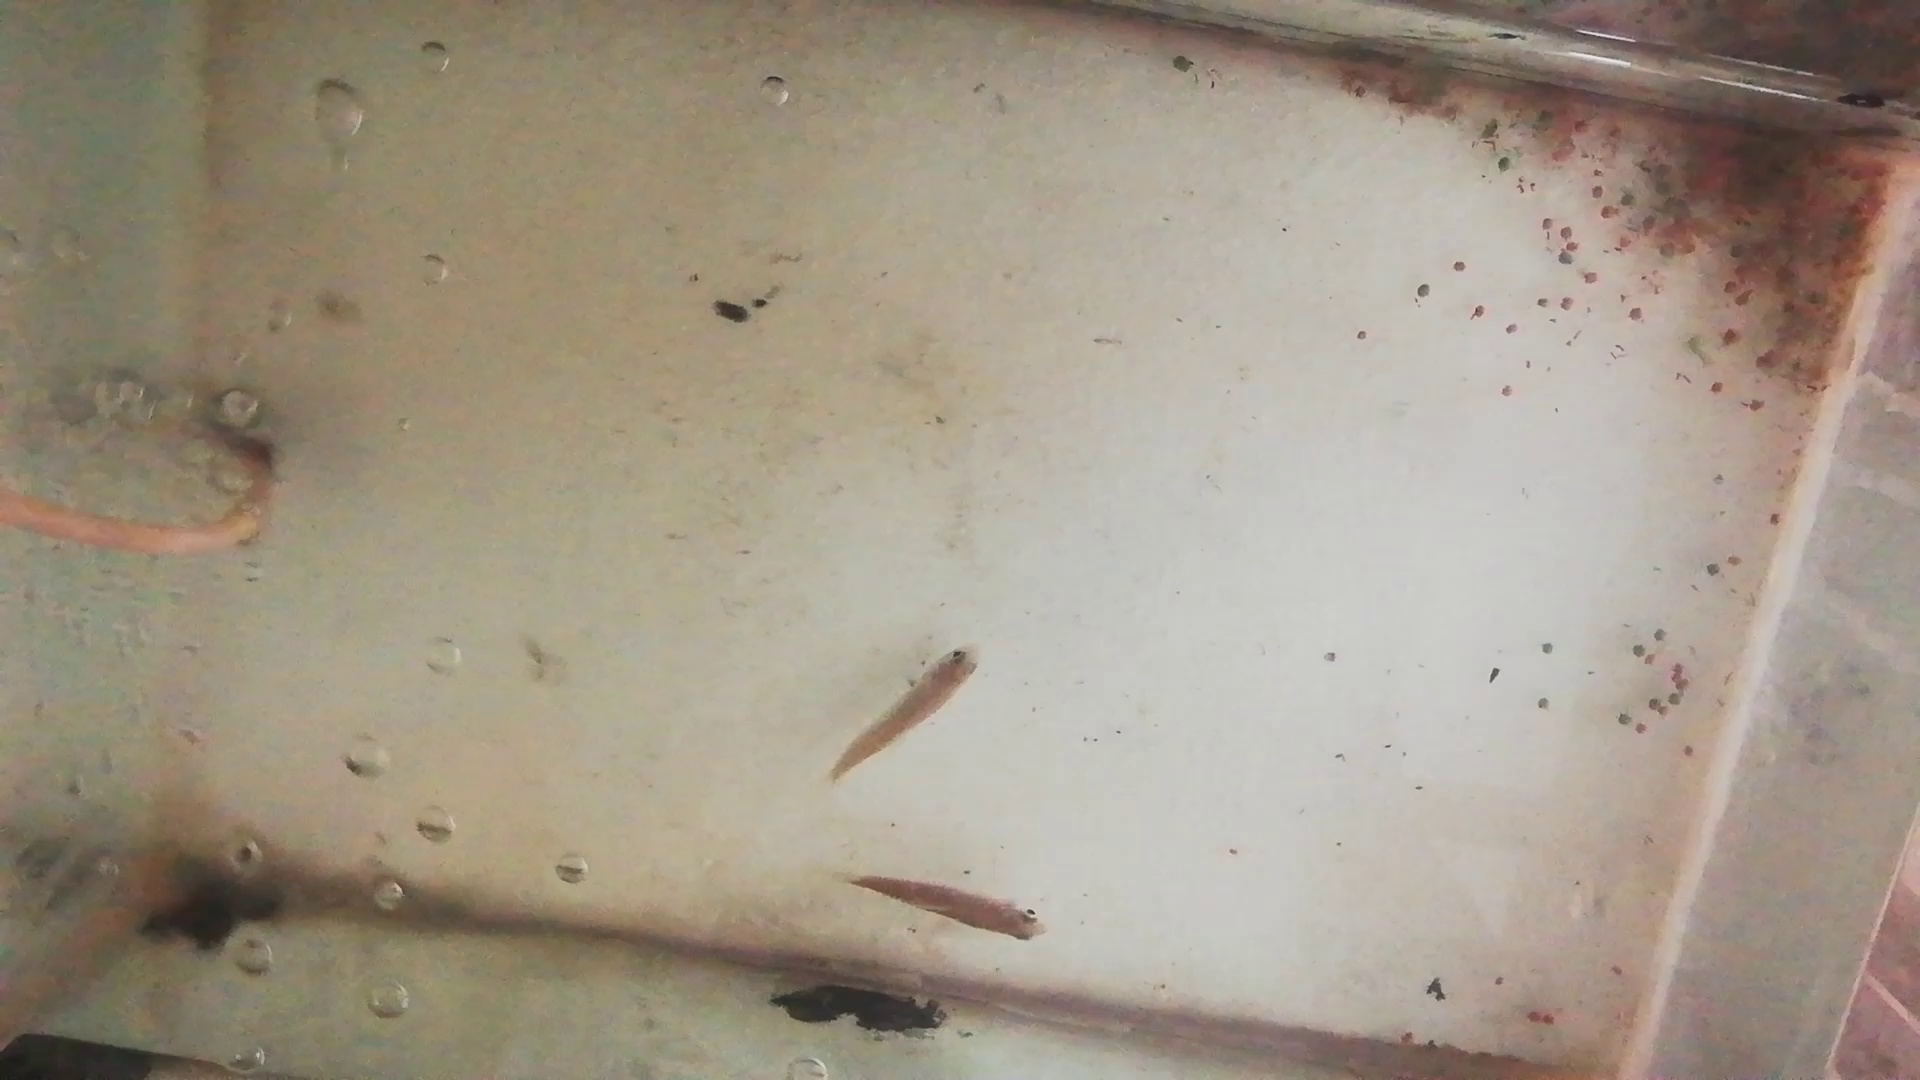fish: (832, 644, 986, 782), (849, 872, 1054, 944)
